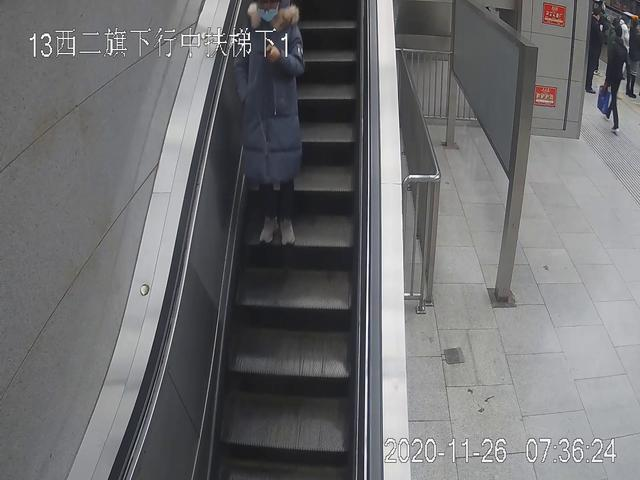person: (233, 1, 304, 244), (599, 26, 628, 135)
